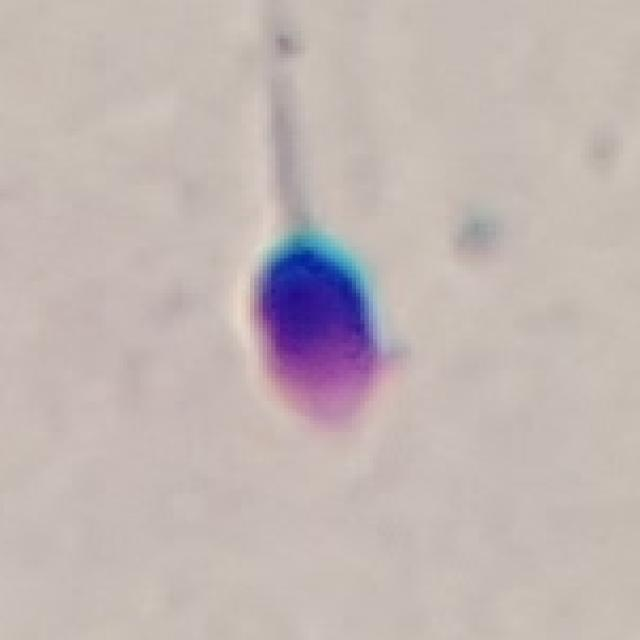normal sperm: (242, 152, 382, 427)
